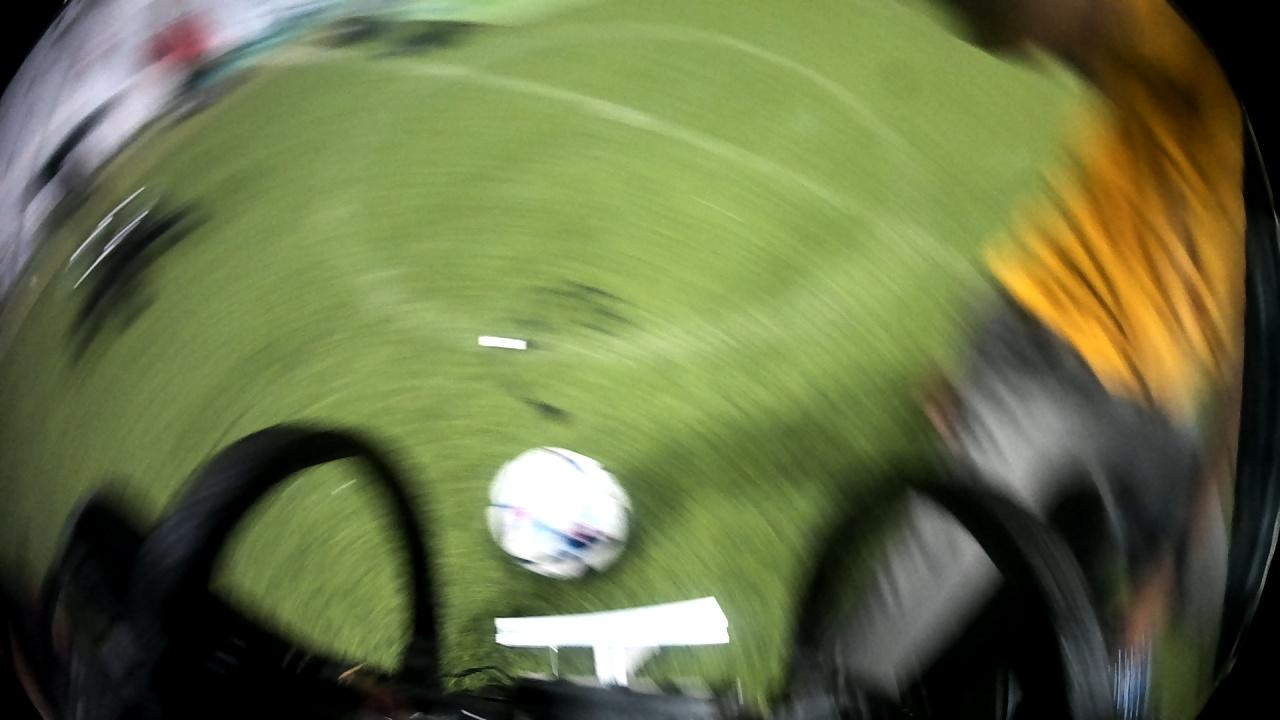ball: (483, 439, 634, 584)
